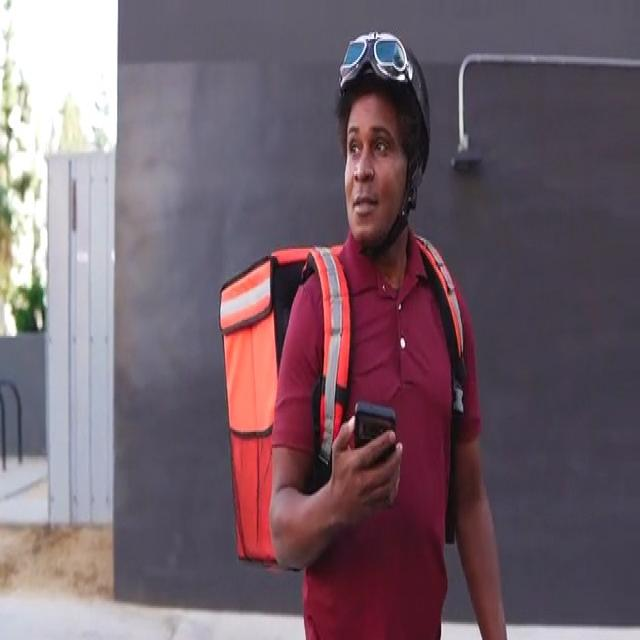Helmet_Wearer: (326, 29, 431, 244)
Person: (277, 29, 507, 640)
